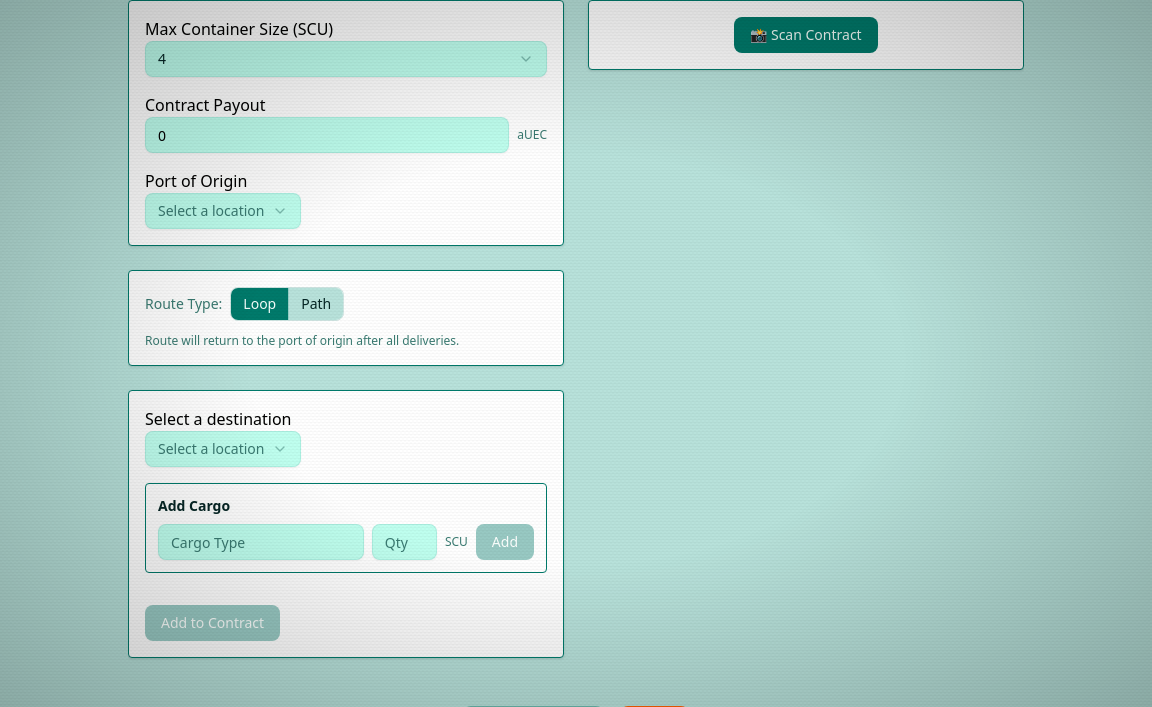
ContractForm › Cargo Management › should add cargo to delivery
This screenshot has width=1152, height=707.
In the field labelled "Cargo Type": (261, 542) [158, 524, 364, 560], type "Copper"
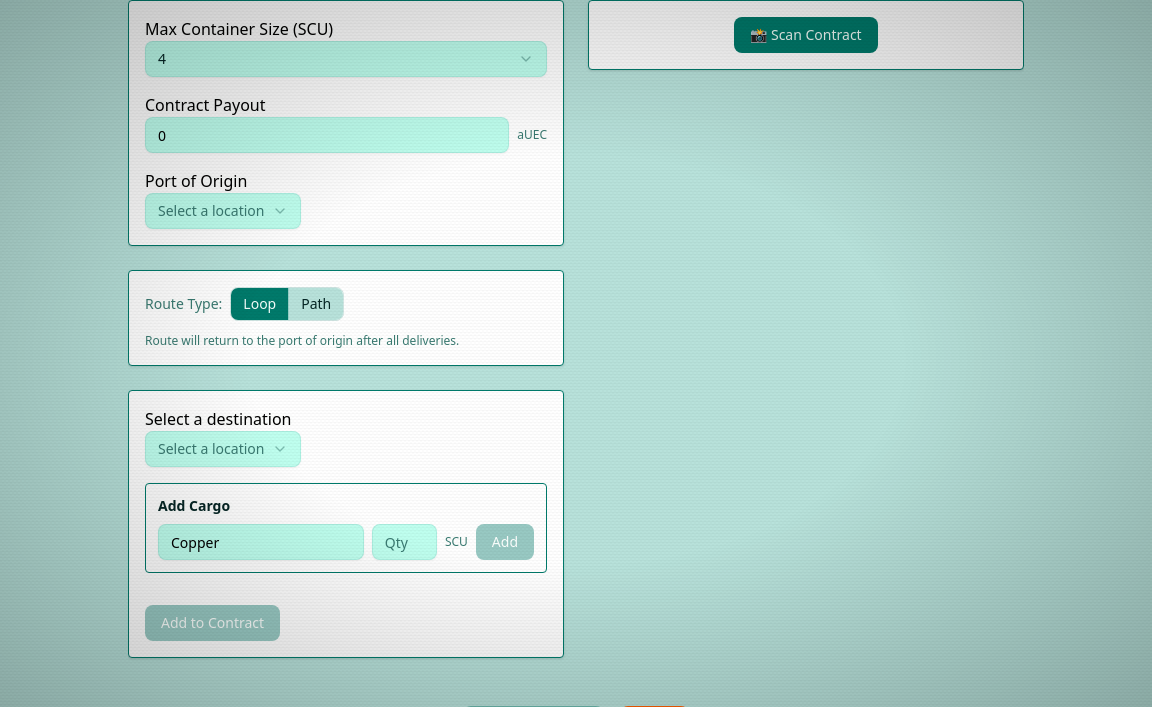
In the number field with placeholder "Qty": (404, 542) [372, 524, 437, 560], type "2"
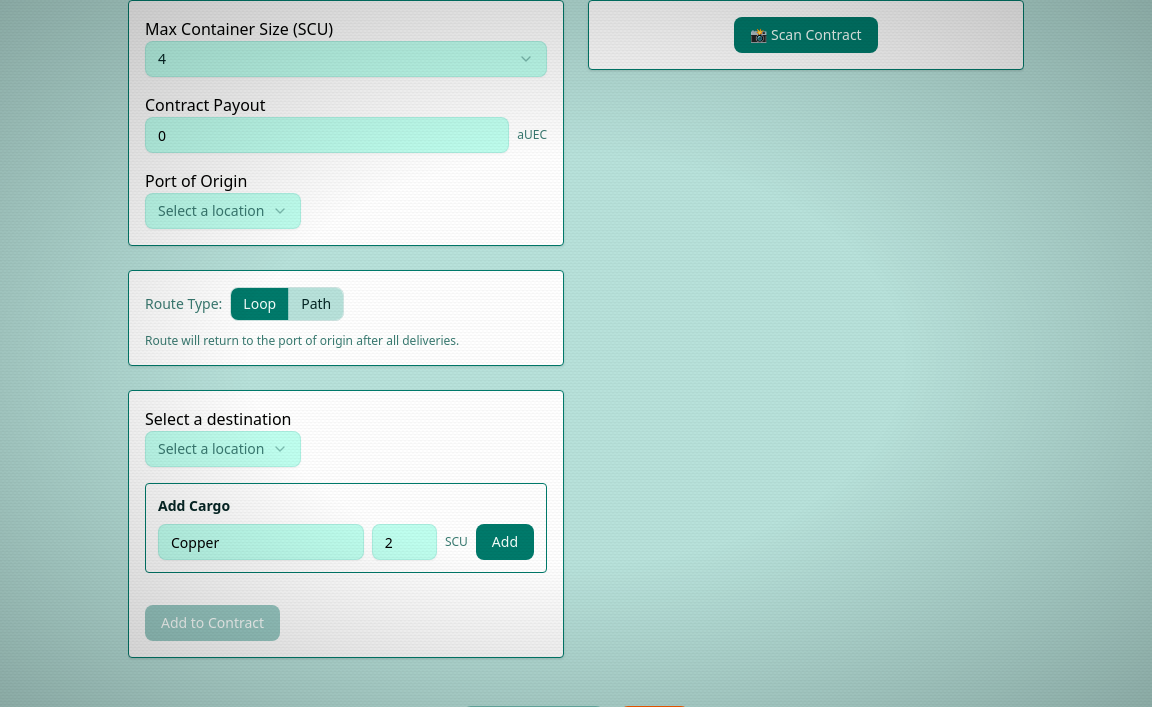
Click the button "Add": (505, 542) [476, 524, 534, 560]
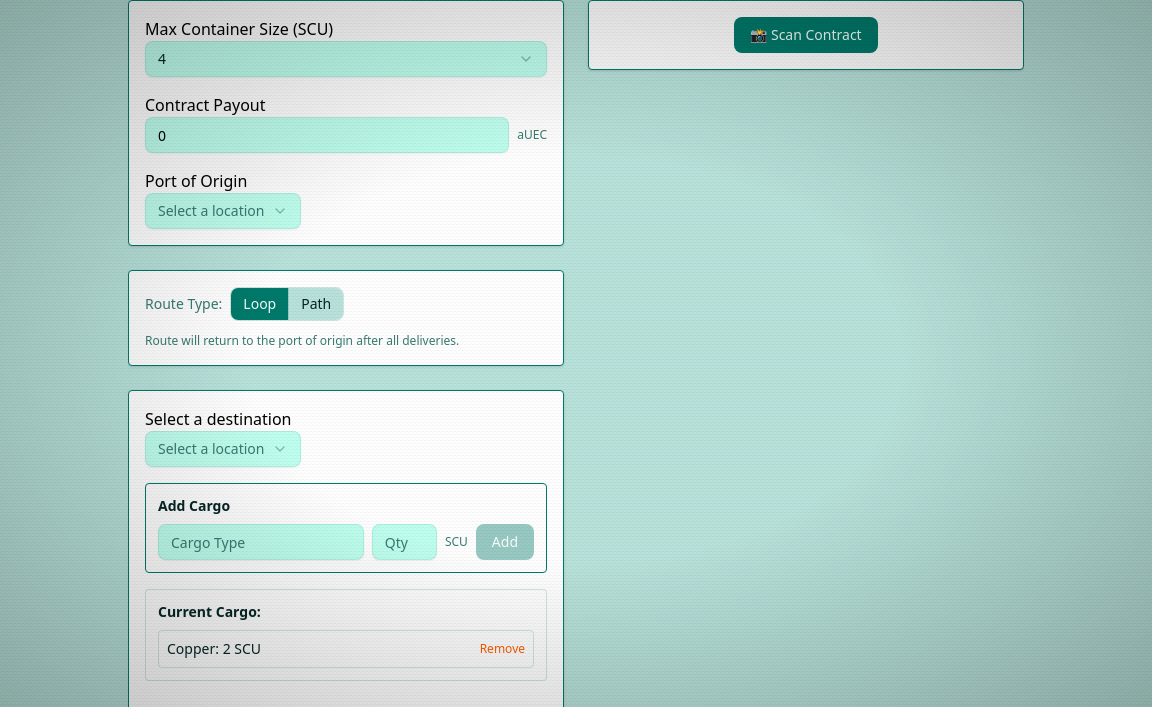
Now the text "Copper: 2 SCU" is shown, box [167, 639, 261, 659]
